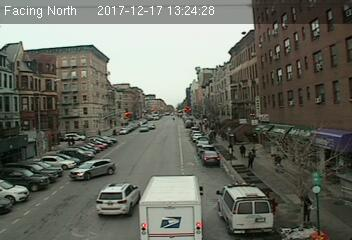car: (96, 182, 140, 219), (201, 150, 221, 167)
police: (215, 180, 276, 237)
truck: (136, 173, 204, 240)
